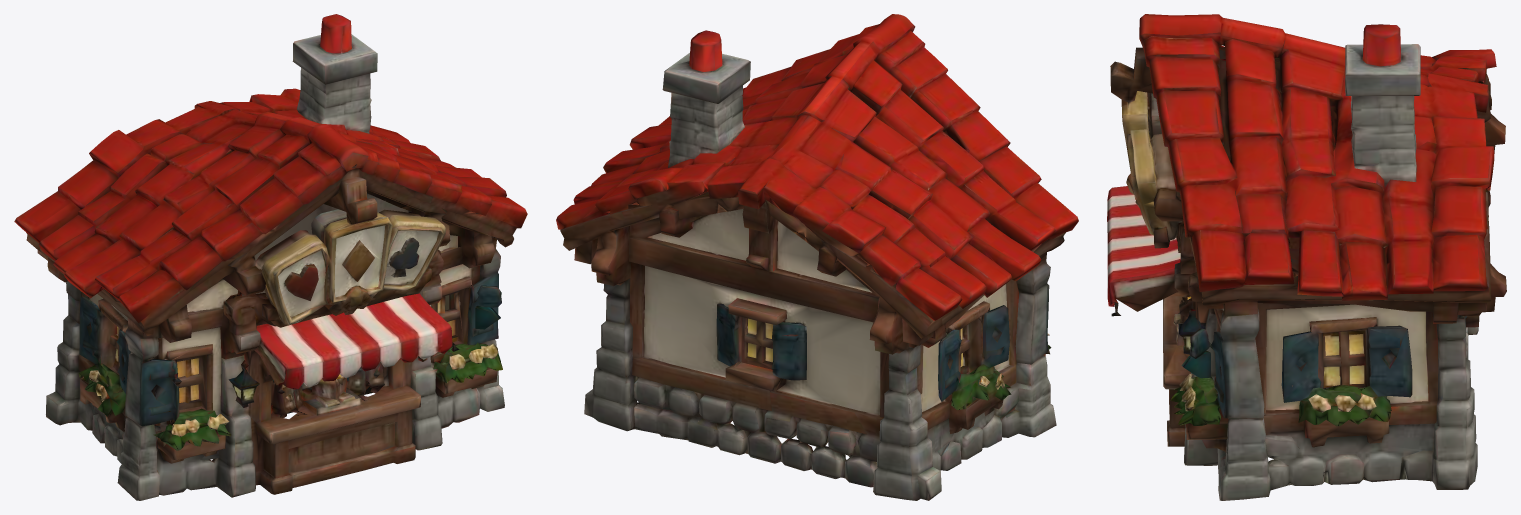
The picture shows the model from 3 angles, left to right: view 1: azimuth 30°, elevation 25°; view 2: azimuth 150°, elevation 25°; view 3: azimuth 270°, elevation 25°; orthographic projection. The views are drawn at different scales.
Visible parts, largest first — view 1: alpine__card_pavilion__native_mobile; view 2: alpine__card_pavilion__native_mobile; view 3: alpine__card_pavilion__native_mobile.
Part boxes in pixels (x1=…): alpine__card_pavilion__native_mobile: x1=14, y1=14, x2=527, y2=500; alpine__card_pavilion__native_mobile: x1=556, y1=14, x2=1078, y2=500; alpine__card_pavilion__native_mobile: x1=1107, y1=14, x2=1506, y2=500.
Bounding box in the file's own units: 1 × 0.8643 × 0.7321.
Materials: 1 (1 with a texture image).
